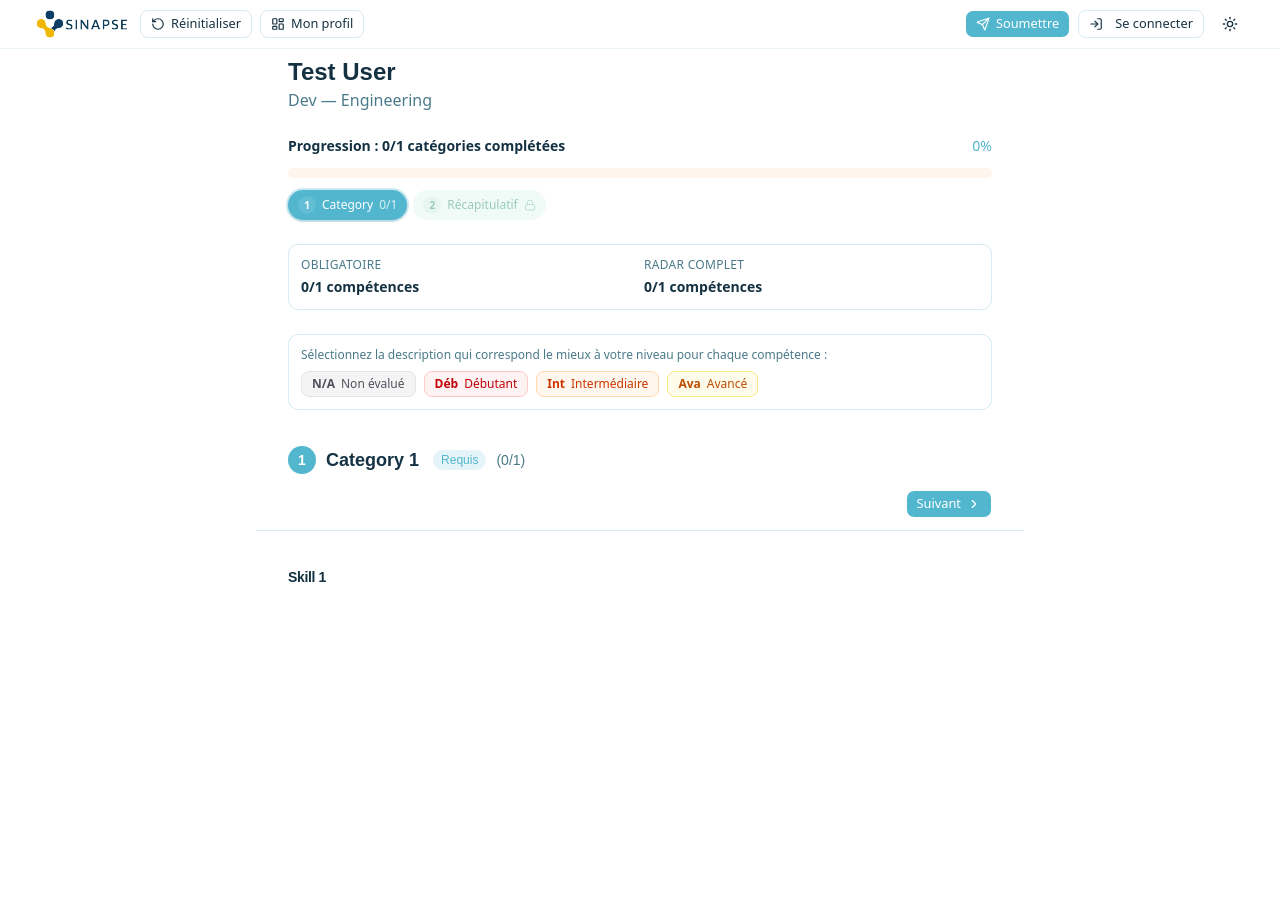
Test: FormPage — submit button & dialog › cancel on confirmation dialog closes it without submitting
The image size is (1280, 900).
Click the button with test id "header-submit-btn". click: (1018, 24)
box: [965,10,1070,38]
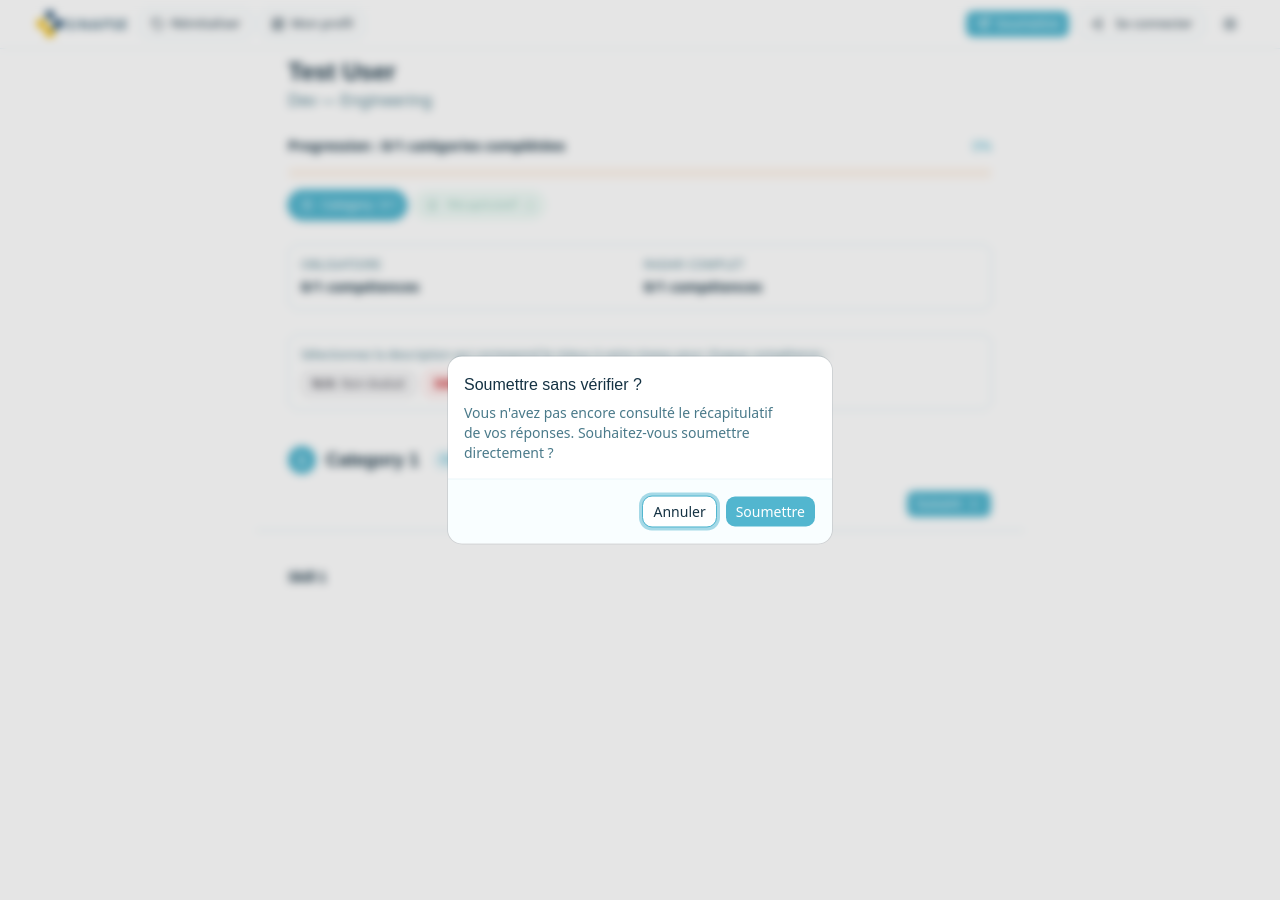
Note: Dialog visible
Click the button "Annuler". click: (680, 512)
box: [642,496,717,528]
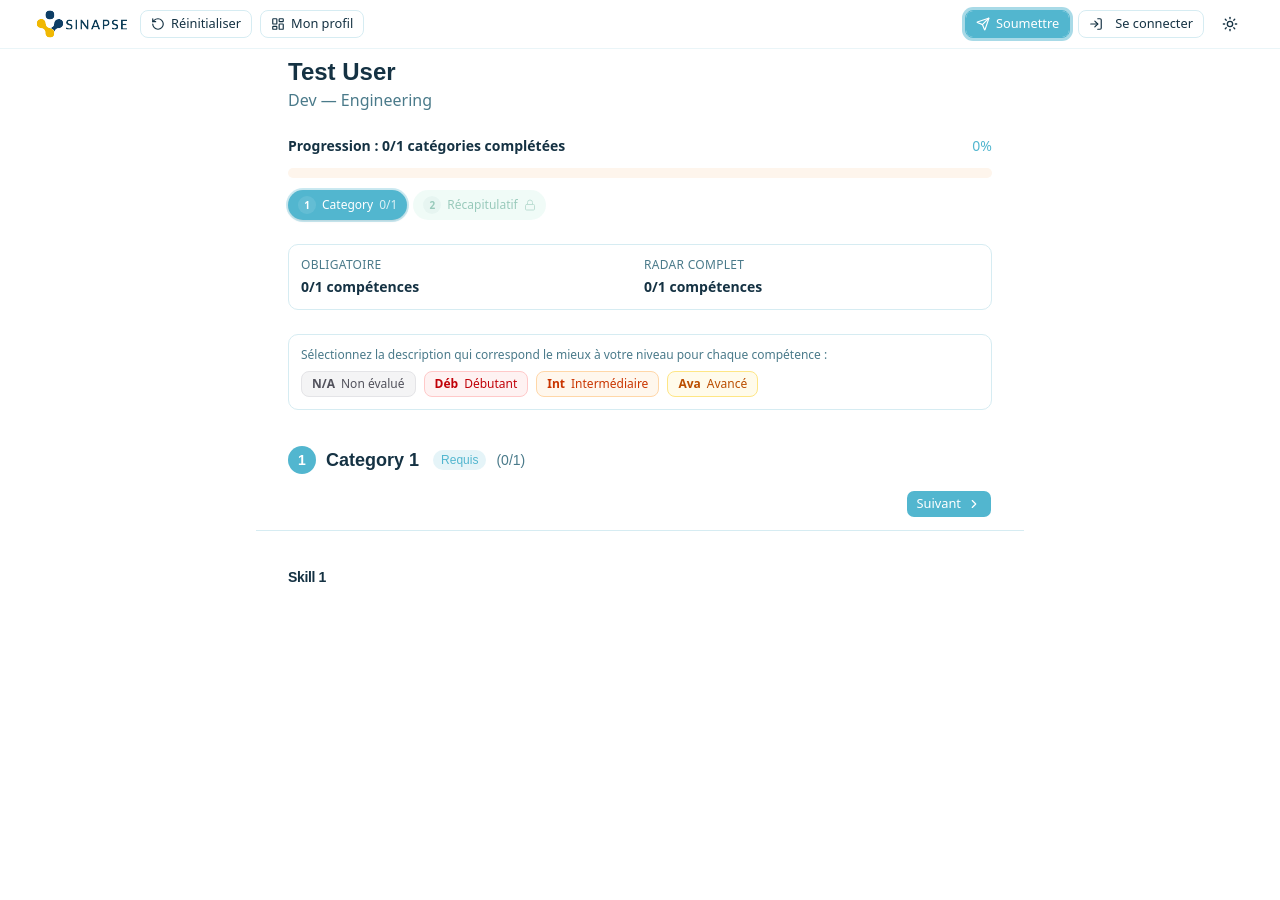
Result: the heading "Soumettre sans vérifier" is gone
